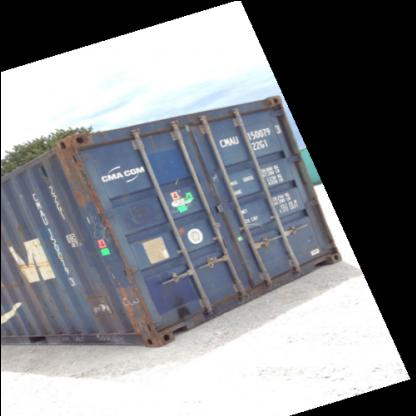Damage: (57, 138, 122, 252), (118, 263, 158, 345), (0, 320, 100, 338), (82, 282, 113, 318), (168, 289, 194, 321), (35, 283, 58, 316), (128, 191, 148, 228), (14, 178, 46, 201), (13, 216, 35, 246), (12, 258, 58, 270), (138, 124, 158, 148), (206, 161, 222, 187), (166, 168, 184, 188), (299, 231, 311, 247)
